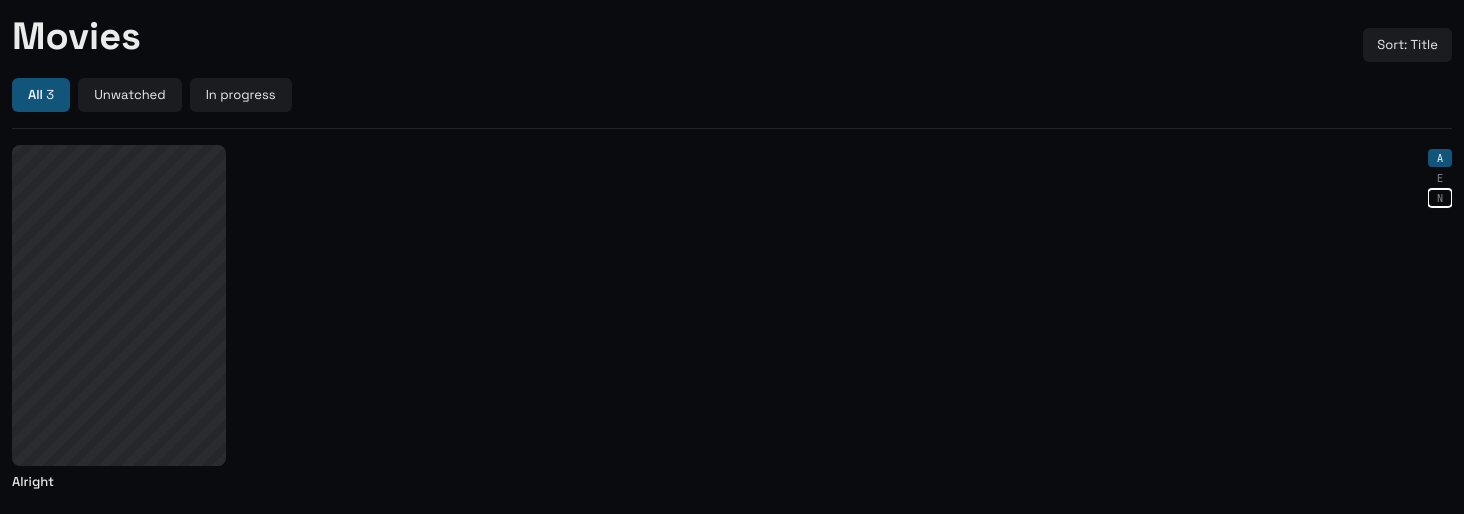
LibraryScreen › moves focus to the landing card after a letter jump made from the keyboard, and not after a pointer jump
Expected: the link "Alright 2024 · 1h 40m" is shown, top-left (12, 145), bottom-right (226, 497)
Press Enter
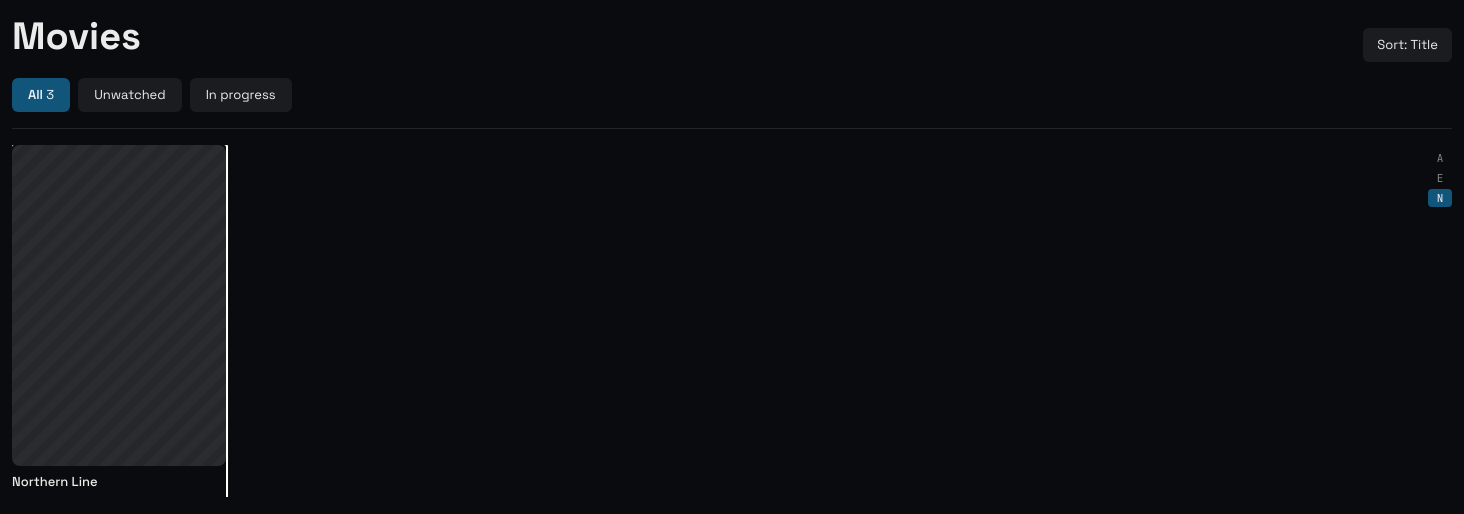
Click the button "A": [1440, 158] box top-left (1428, 149), bottom-right (1452, 167)
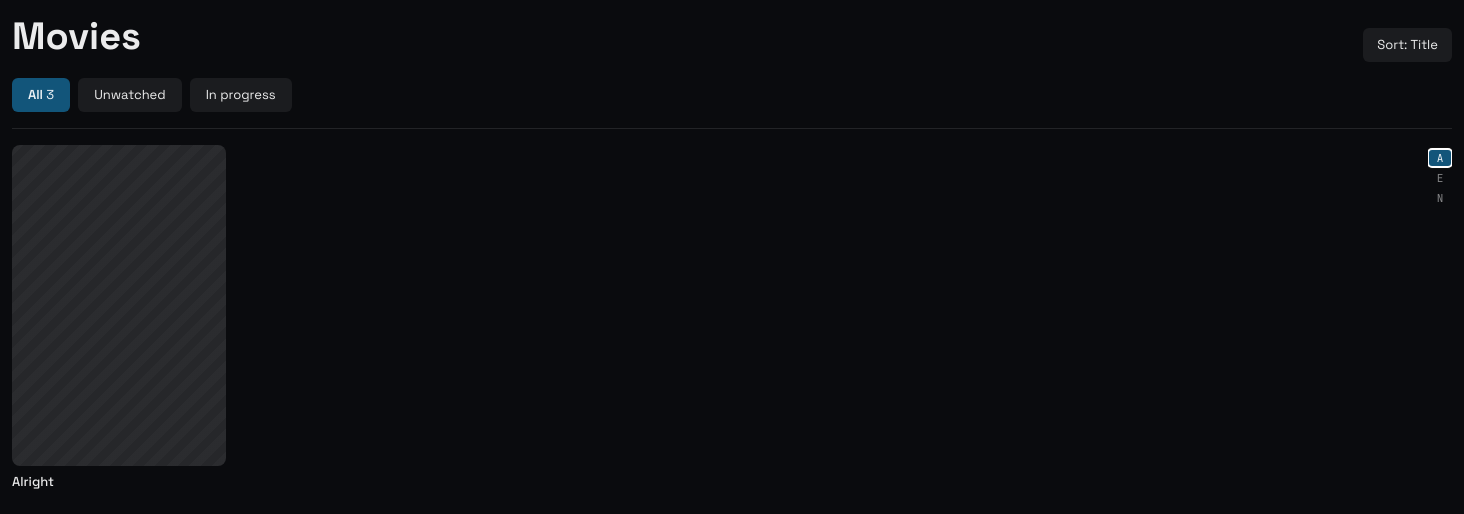
Result: the link "Alright 2024 · 1h 40m" is shown at top-left (12, 145), bottom-right (226, 497)
